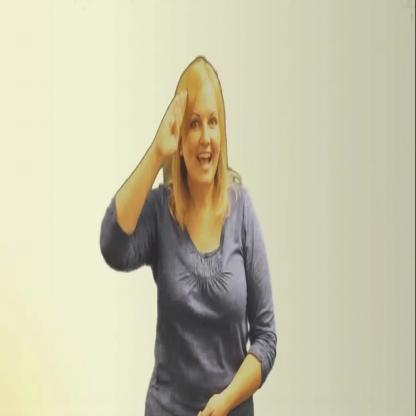Hello: (144, 50, 237, 204)
